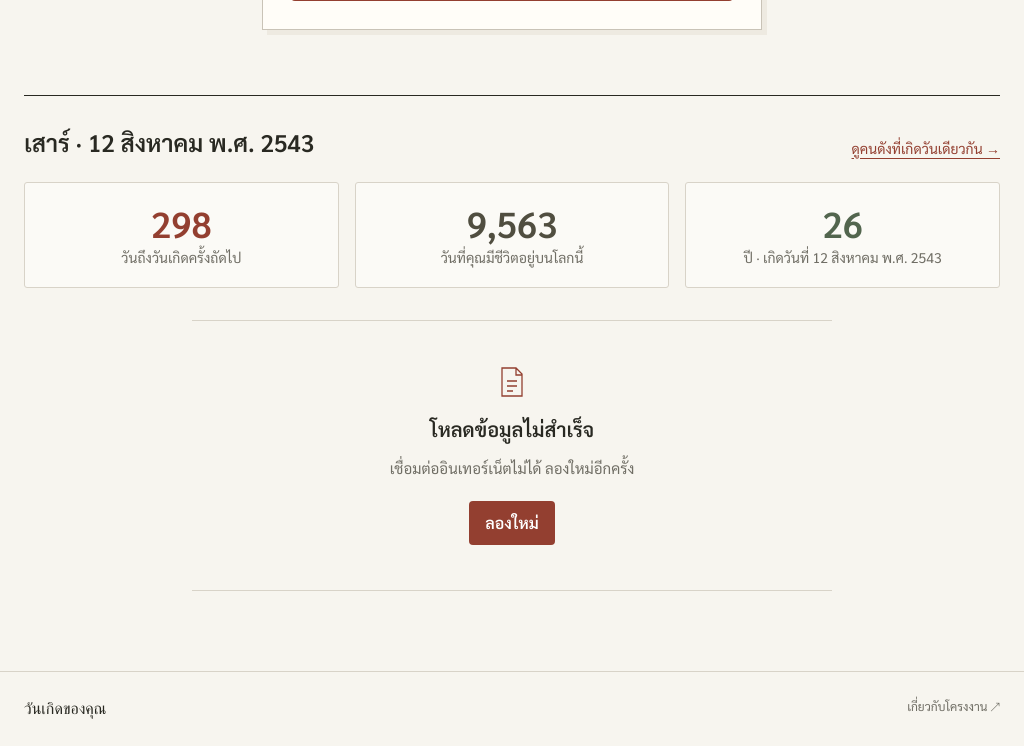
server state and routing › recovers from an API failure using retry
(page scrolled)
Click the button "ลองใหม่": (512,523) x1=469 y1=501 x2=555 y2=545
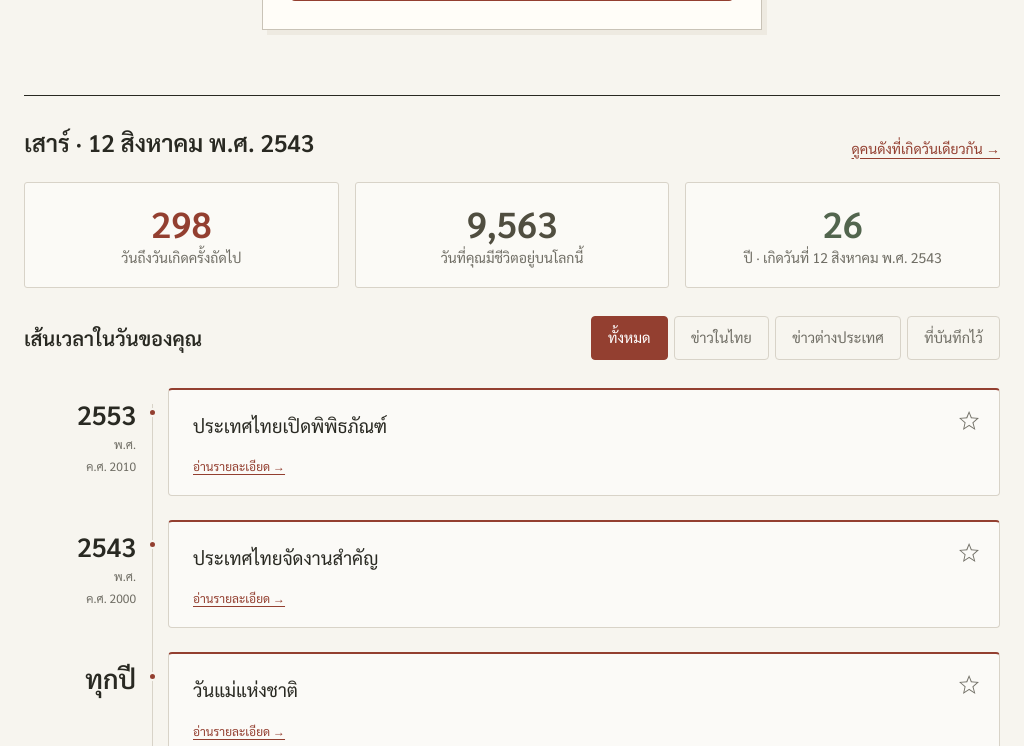
Check: the link "ประเทศไทยเปิดพิพิธภัณฑ์" is shown, box x1=193 y1=413 x2=387 y2=437
